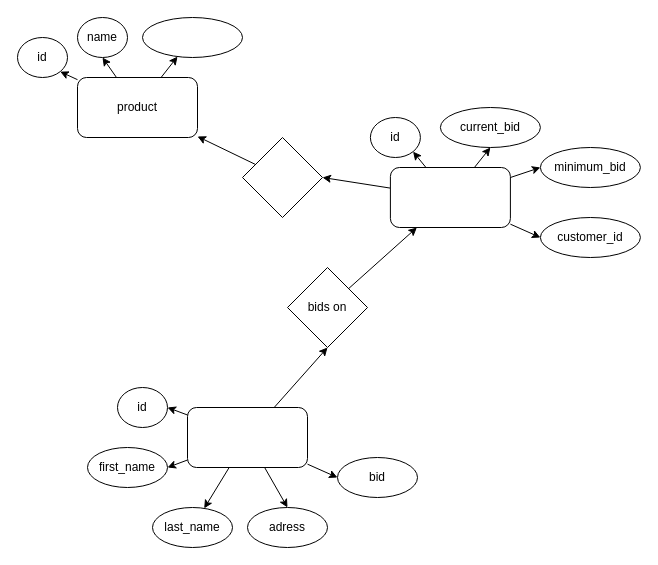
Some shapes in this 658 by 565 pixel diagram are drawn without their labels. The shapes that lost their labels are listed below. From the top down, each one's centre as x and y in pixels, then its label:
At pixel 192 37: "set_id".
At pixel 282 177: "contains".
At pixel 449 197: "set".
At pixel 247 437: "customer".
